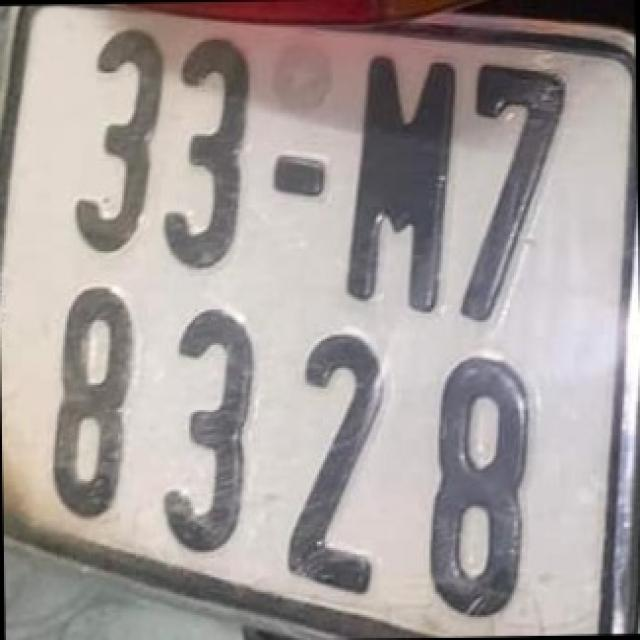2: (280, 327, 390, 602)
3: (158, 304, 256, 556), (69, 25, 163, 255), (164, 31, 252, 270)
7: (459, 56, 571, 326)
8: (422, 345, 540, 615), (43, 282, 138, 521)
M: (337, 41, 461, 315)
